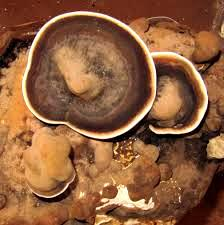Ganoderma - Fruit Body: (25, 9, 155, 140), (157, 50, 210, 135)
